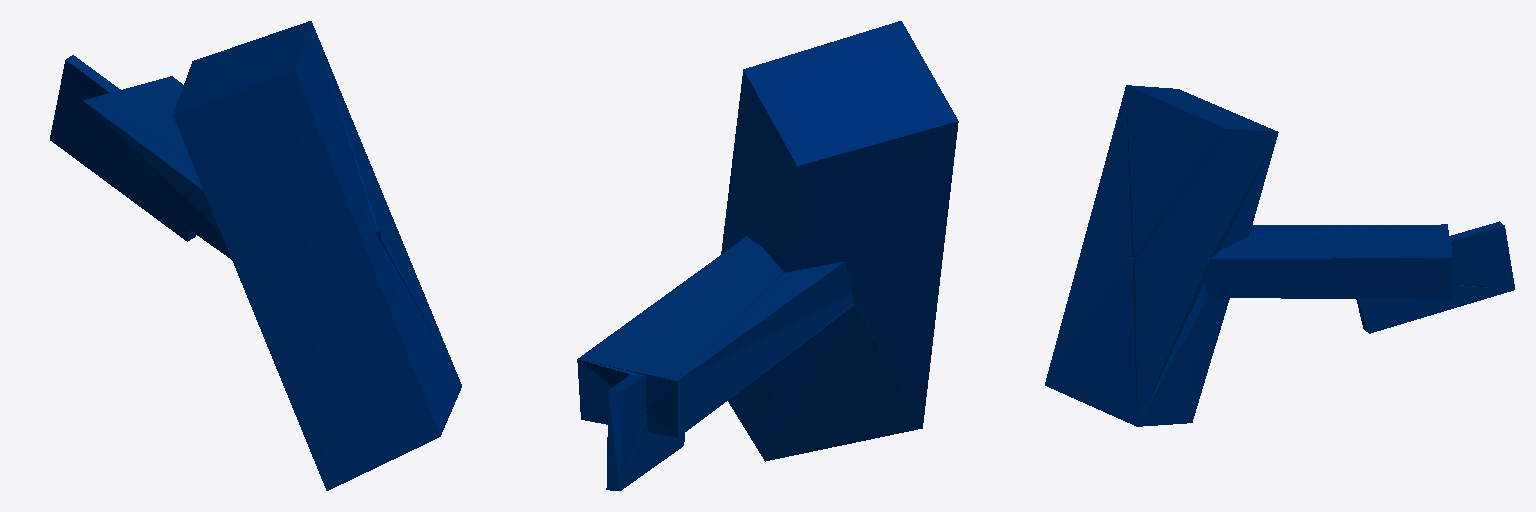
The robot description file, URDF, robot "blob841":

<robot name="blob841">
  <link name="random_obj_841">
    <contact>
      <lateral_friction value="1.0"/>
      <rolling_friction value="0.0"/>
      <inertia_scaling value="3.0"/>
      <contact_cfm value="0.0"/>
      <contact_erp value="1.0"/>
    </contact>
    <inertial>
      <origin rpy="0 0 0" xyz="0 0 0"/>
      <mass value="0.0991"/>
      <inertia ixx="1" ixy="0" ixz="0" iyy="1" iyz="0" izz="0"/>
    </inertial>
    <visual>
      <origin rpy="0 0 0" xyz="0 0 0"/>
      <geometry>
        <mesh filename="841.obj" scale="0.0079 0.0079 0.0079"/>
      </geometry>
      <material name="blockmat">
        <color rgba="0.00 0.22 0.49 1"/>
      </material>
    </visual>
    <collision>
      <origin rpy="0 0 0" xyz="0 0 0"/>
      <geometry>
        <mesh filename="841_coll.obj" scale="0.0079 0.0079 0.0079"/>
      </geometry>
    </collision>
  </link>
</robot>

--- What the picture shows (computed from the rendered views, not written in the file) ---
Views: 3 orthographic renders of the robot side by side, from view 1: azimuth 30°, elevation 25°; view 2: azimuth 150°, elevation 25°; view 3: azimuth 270°, elevation 25°.
Robot: blob841 — 1 links, 0 joints (none); root link random_obj_841; default pose: all joints at 0.
Visible links, largest first — view 1: random_obj_841; view 2: random_obj_841; view 3: random_obj_841.
Link boxes in pixels (x1,y1,x2,y2): random_obj_841: [50, 21, 461, 490]; random_obj_841: [577, 21, 958, 490]; random_obj_841: [1045, 85, 1514, 426].
Size in the robot's own frame: 0.0692 by 0.1411 by 0.1015 metres.
Meshes: 1 distinct files referenced, 1 mesh visuals loaded (1 OBJ).
